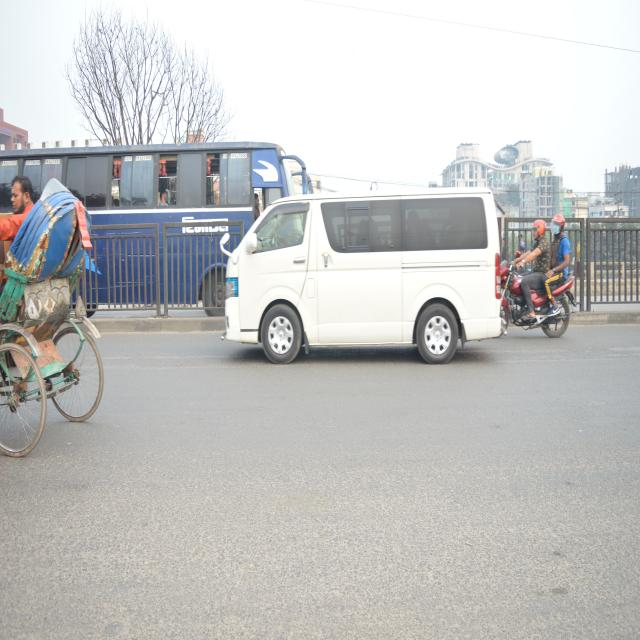bus: (73, 138, 285, 320)
microbus: (208, 186, 507, 372)
motorbike: (502, 240, 579, 342)
